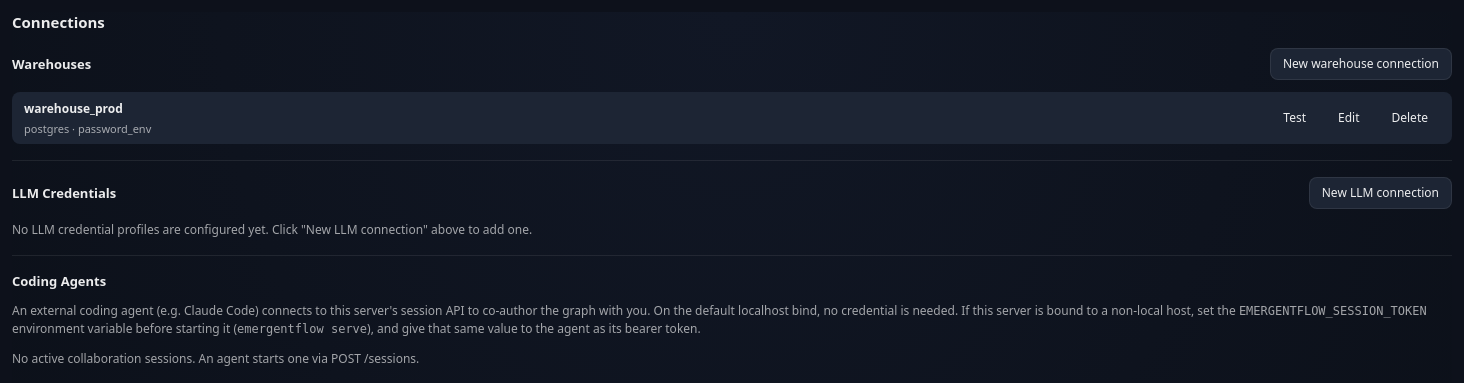
Test: test button shows error message on 422 failure
Expected: the element with test id "connection-row-warehouse_prod" is shown, [12,92,1452,144]
Step 1. Click the button with test id "connection-test-warehouse_prod" → (1295, 118), box [1271,102,1318,134]
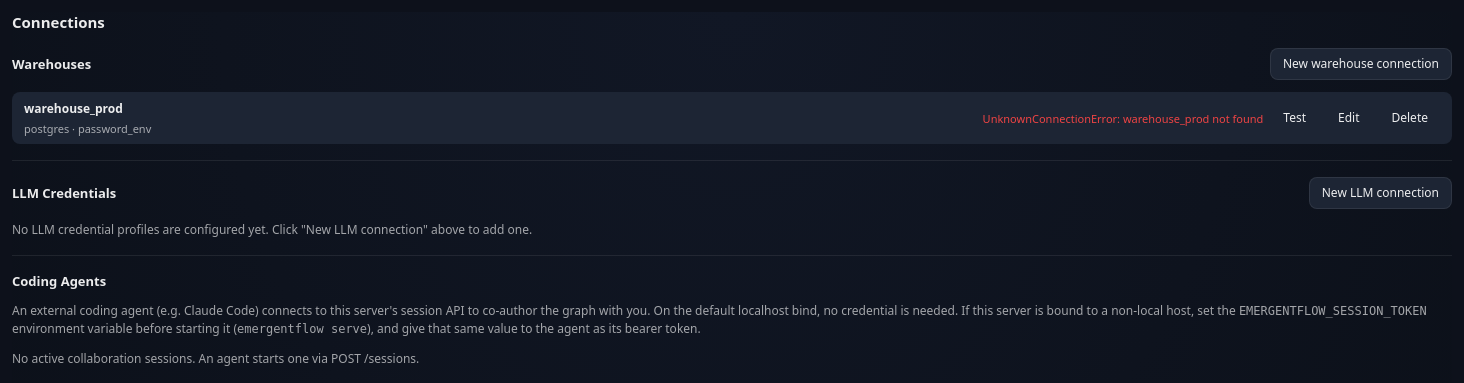
Result: the text with test id "connection-status-warehouse_prod" reads "UnknownConnectionError: warehouse_prod not found" at [983,110,1263,126]
